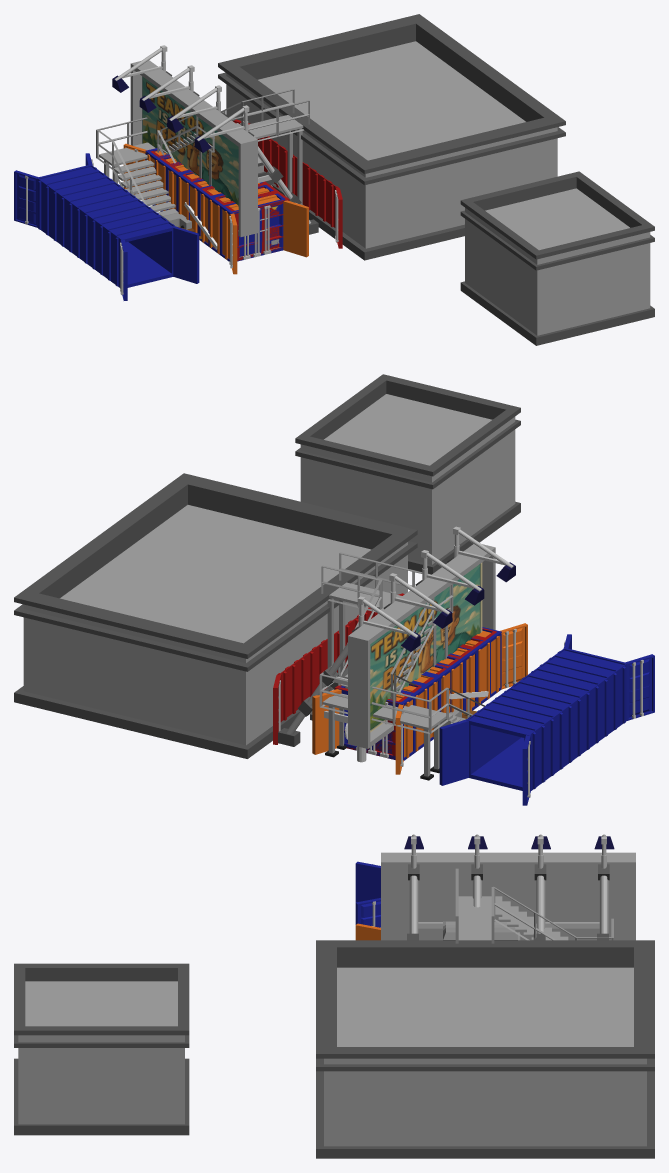
Rendered from Map2SmallObjects 1.fbx.
The picture shows the model from 3 angles, top to bottom: view 1: azimuth 30°, elevation 25°; view 2: azimuth 150°, elevation 25°; view 3: azimuth 270°, elevation 25°; orthographic projection. The views are drawn at different scales.
Visible parts, largest first — view 1: Shed1, Shed2, BlueContainerOpen, BillBoard1, Stairs, OrangeContainerOpen, BlueContainer, RedContainerOpen, RedContainer; view 2: Shed1, Shed2, BlueContainerOpen, BillBoard1, Stairs, OrangeContainerOpen, RedContainerOpen, BlueContainer, RedContainer; view 3: Shed1, Shed2, BillBoard1, Stairs, BlueContainerOpen, ShedDoor.
Boxes of the visible parts, <box> form: Shed1: <box>218,14,565,260</box>; Shed2: <box>460,171,654,345</box>; BlueContainerOpen: <box>14,153,199,300</box>; BillBoard1: <box>112,45,318,236</box>; Stairs: <box>96,89,309,216</box>; OrangeContainerOpen: <box>123,143,308,274</box>; BlueContainer: <box>145,148,286,261</box>; RedContainerOpen: <box>233,119,342,248</box>; RedContainer: <box>150,150,289,260</box>; Shed1: <box>14,473,417,758</box>; Shed2: <box>295,374,520,574</box>; BlueContainerOpen: <box>439,634,654,805</box>; BillBoard1: <box>278,526,515,762</box>; Stairs: <box>319,552,485,780</box>; OrangeContainerOpen: <box>312,623,527,774</box>; RedContainerOpen: <box>273,593,404,744</box>; BlueContainer: <box>338,627,501,760</box>; RedContainer: <box>334,628,496,759</box>; Shed1: <box>316,940,654,1158</box>; Shed2: <box>14,963,189,1135</box>; BillBoard1: <box>381,834,635,940</box>; Stairs: <box>455,868,613,943</box>; BlueContainerOpen: <box>355,861,380,927</box>; ShedDoor: <box>443,921,517,940</box>.
Bounding box in the file's own units: 7272 × 2478 × 8223.
16 materials, 1 textured.
